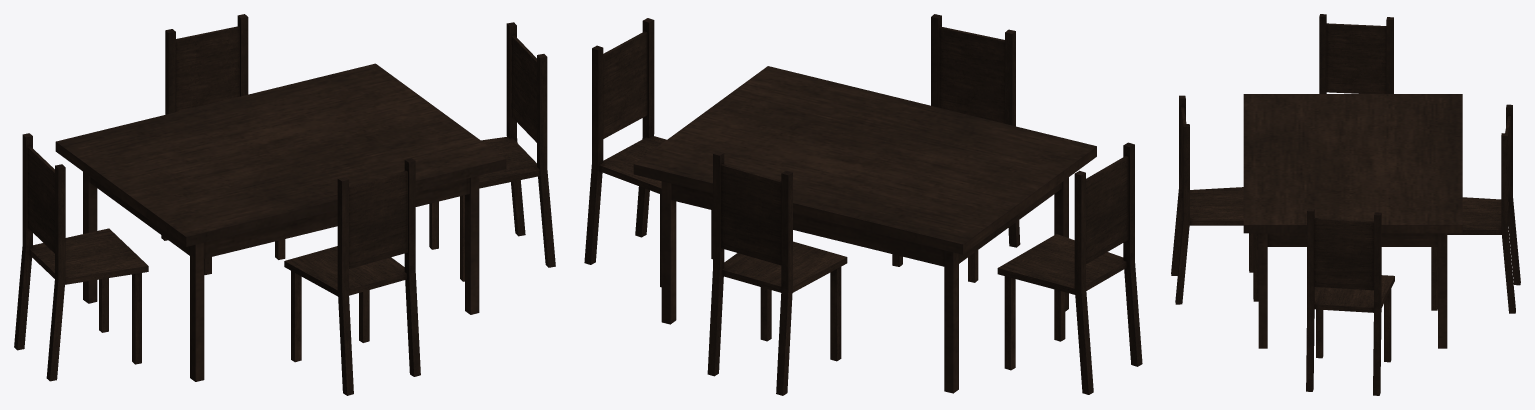
File: ChairNTable.obj
3 renders of one model, left to right at view 1: azimuth 30°, elevation 25°; view 2: azimuth 150°, elevation 25°; view 3: azimuth 270°, elevation 25°, orthographic. The views are drawn at different scales.
Parts seen in each view (by area): view 1: uploads_files_2971304_Table+and+chair_(1); view 2: uploads_files_2971304_Table+and+chair_(1); view 3: uploads_files_2971304_Table+and+chair_(1).
Part boxes in pixels (x1,y1,x2,y2): uploads_files_2971304_Table+and+chair_(1): (14,14,555,395); uploads_files_2971304_Table+and+chair_(1): (584,14,1142,395); uploads_files_2971304_Table+and+chair_(1): (1171,14,1520,395).
Size of the model in its own units: 4.4 by 1.75 by 3.13.
1 material, 1 textured.
